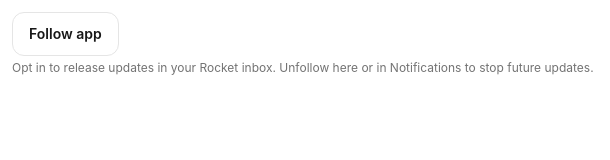
Test: Marketplace follow consent › does not subscribe automatically; requires an explicit click and can unsubscribe
Later steps or results of the test are not shown.
Click the button "Follow app": (65, 34) [12, 12, 119, 56]
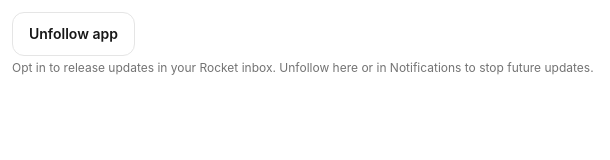
Now the button "Unfollow app" is shown, box [12, 12, 135, 56]
